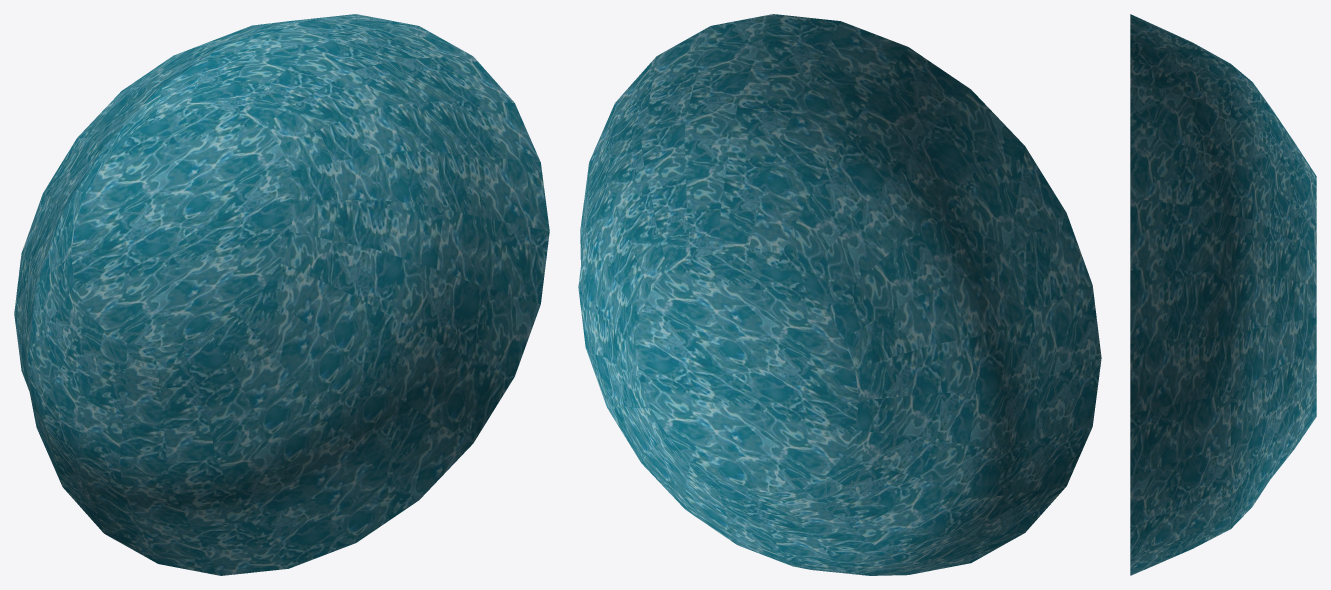
The model's file is model_align.obj.
3 renders of one model, left to right at view 1: azimuth 30°, elevation 25°; view 2: azimuth 150°, elevation 25°; view 3: azimuth 270°, elevation 25°, orthographic. The views are drawn at different scales.
Visible parts, largest first — view 1: mesh1_mesh1-geometry; view 2: mesh1_mesh1-geometry; view 3: mesh1_mesh1-geometry.
Boxes of the visible parts, x1,y1,x2,y2 form: mesh1_mesh1-geometry: (14,14,549,575); mesh1_mesh1-geometry: (578,14,1101,575); mesh1_mesh1-geometry: (1130,14,1316,575).
Bounding box in the file's own units: 0.1672 × 0.1676 × 0.0553.
